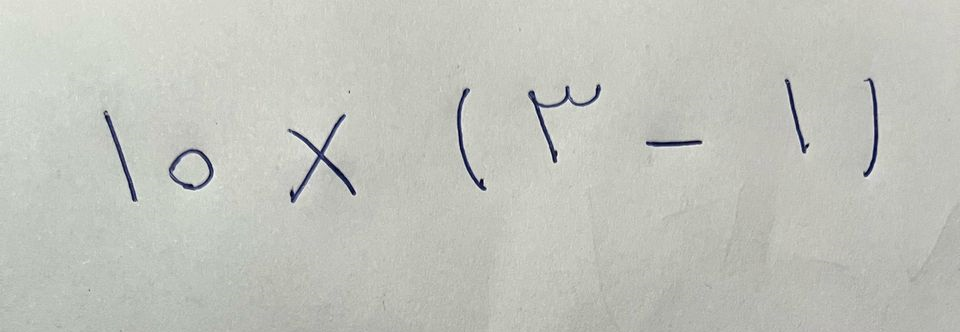character: (283, 116, 357, 206), (527, 78, 600, 160), (104, 104, 153, 212), (455, 85, 484, 196), (168, 145, 213, 197), (783, 72, 809, 151), (864, 76, 881, 174), (647, 132, 702, 148)
